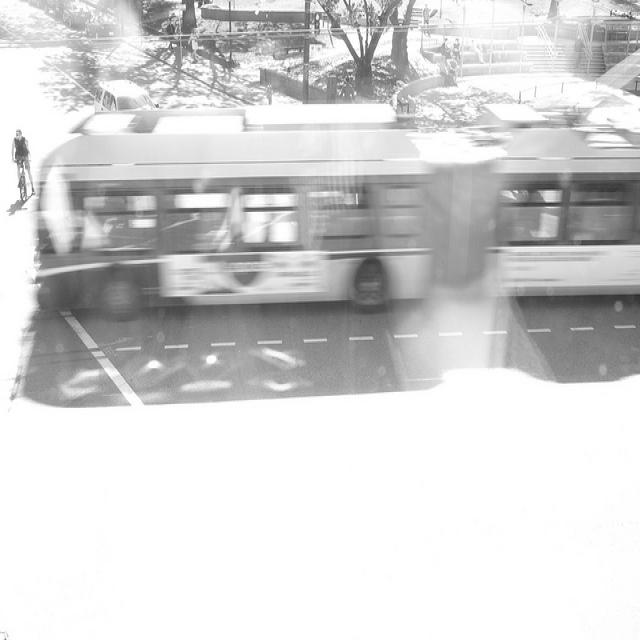Vehicle: (26, 99, 497, 321), (492, 140, 640, 304), (93, 78, 156, 112)
